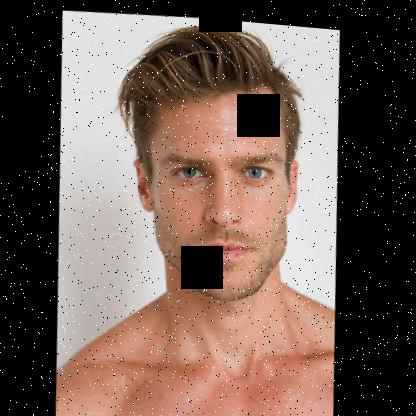Male: (127, 74, 307, 305)
